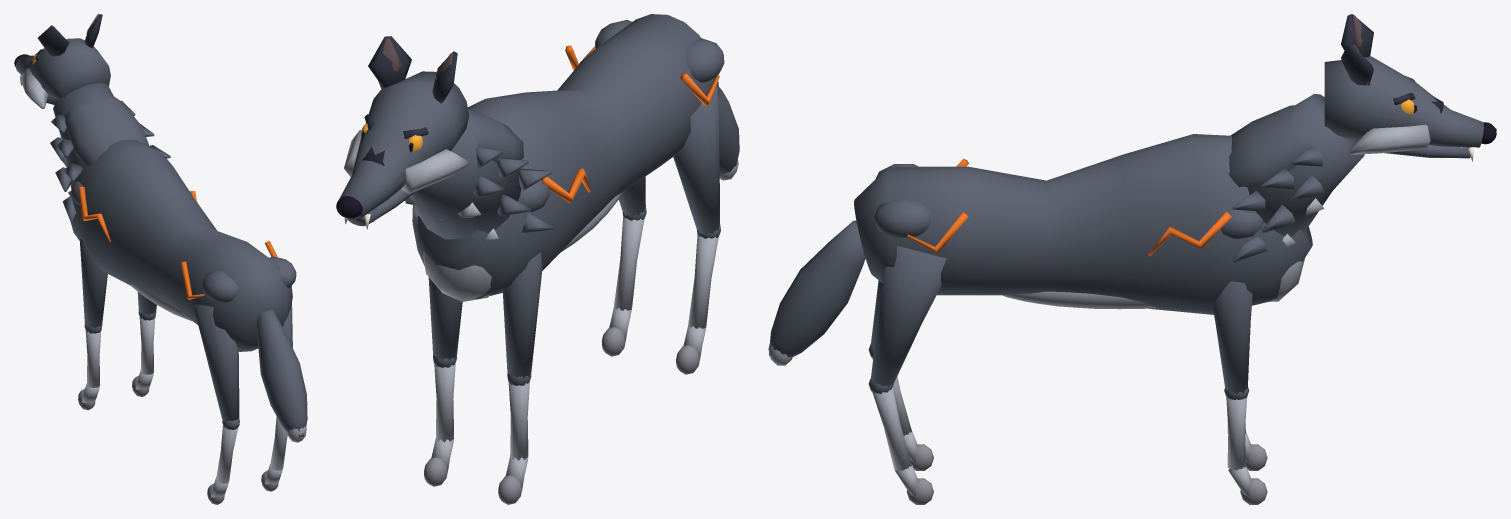
File: beast_mirror_wolf.glb
The picture shows the model from 3 angles, left to right: view 1: azimuth 30°, elevation 25°; view 2: azimuth 150°, elevation 25°; view 3: azimuth 270°, elevation 25°; orthographic projection. The views are drawn at different scales.
Parts seen in each view (by area): view 1: body, neck, tail, head, leg_br, leg_fr, shin_br, shin_fr, shin_fl, shin_bl, ear_r, leg_fl (+1 smaller); view 2: body, head, neck, leg_br, leg_fr, shin_br, shin_bl, shin_fr, shin_fl, leg_fl, tail, ear_l (+3 smaller); view 3: body, neck, head, tail, leg_bl, leg_fl, shin_bl, shin_fl, shin_br, ear_r, ear_l.
Part boxes in pixels (x1,y1,x2,y2): body: (70,139,296,351); neck: (50,83,170,221); tail: (257,310,307,442); head: (14,38,110,108); leg_br: (193,303,239,429); leg_fr: (79,238,107,333); shin_br: (207,425,238,504); shin_fr: (78,330,101,410); shin_fl: (132,317,155,396); shin_bl: (261,416,287,491); ear_r: (37,25,69,56); leg_fl: (137,292,156,320); body: (412,14,724,298); head: (336,71,469,229); neck: (404,109,553,301); leg_br: (673,85,720,238); leg_fr: (502,252,542,385); shin_br: (676,234,718,374); shin_bl: (601,216,644,356); shin_fr: (498,381,529,504); shin_fl: (424,363,455,486); leg_fl: (428,277,462,367); tail: (718,87,739,180); ear_l: (368,36,411,89); body: (854,134,1312,314); neck: (1228,94,1364,301); head: (1324,56,1496,161); tail: (768,220,865,365); leg_bl: (868,245,946,393); leg_fl: (1213,281,1252,399); shin_bl: (872,387,933,504); shin_fl: (1226,397,1267,504); shin_br: (872,358,933,470); ear_r: (1341,14,1373,57); ear_l: (1341,44,1373,85).
Size of the model in its own units: 0.4218 by 1.38 by 1.99.
